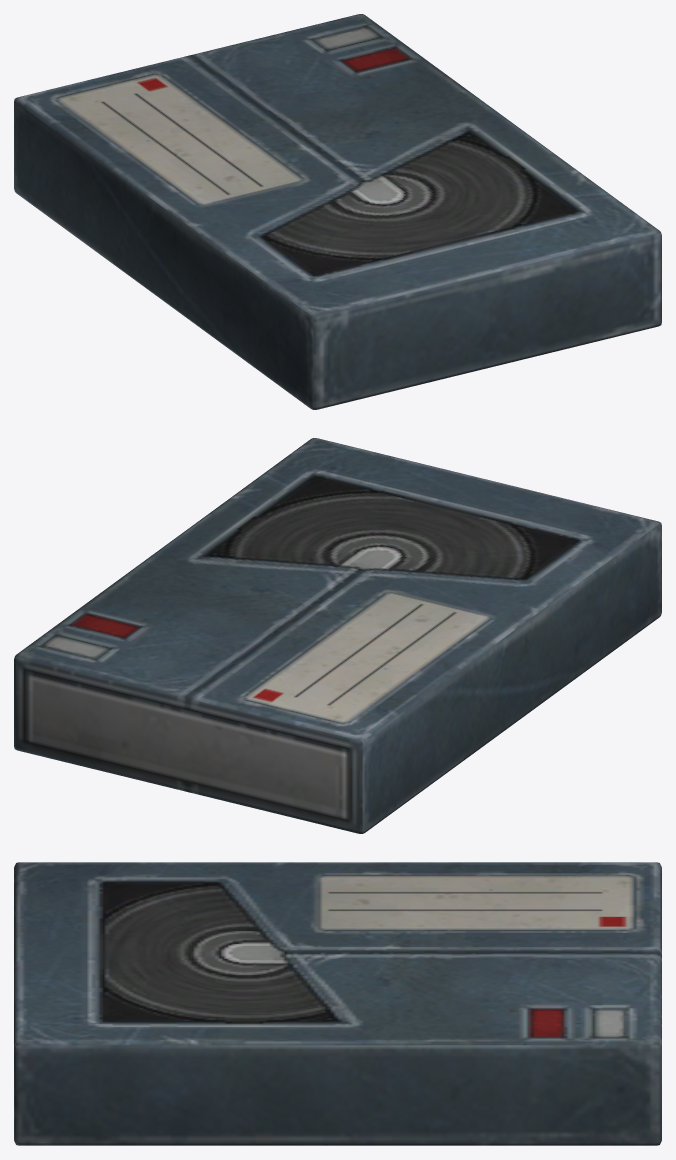
The model's file is audio_log_tape.dae.
3 renders of one model, top to bottom at view 1: azimuth 30°, elevation 25°; view 2: azimuth 150°, elevation 25°; view 3: azimuth 270°, elevation 25°, orthographic. The views are drawn at different scales.
Visible parts, largest first — view 1: low; view 2: low; view 3: low.
Boxes of the visible parts, box(x1,y1,x2,y2) form: low: box(14, 14, 661, 409); low: box(14, 438, 661, 833); low: box(14, 862, 661, 1145).
Bounding box in the file's own units: 0.0747 × 0.0195 × 0.1108.
